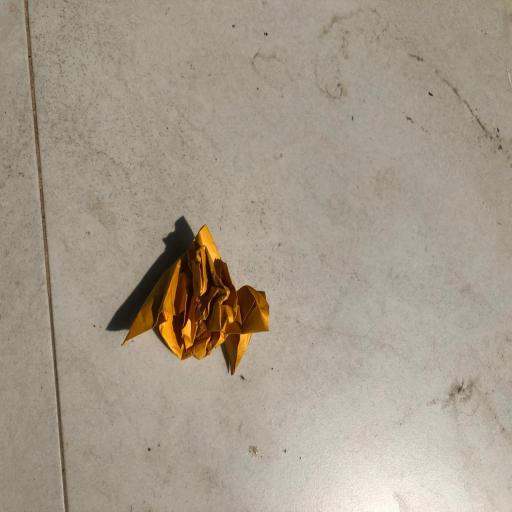waste: (112, 210, 290, 380)
